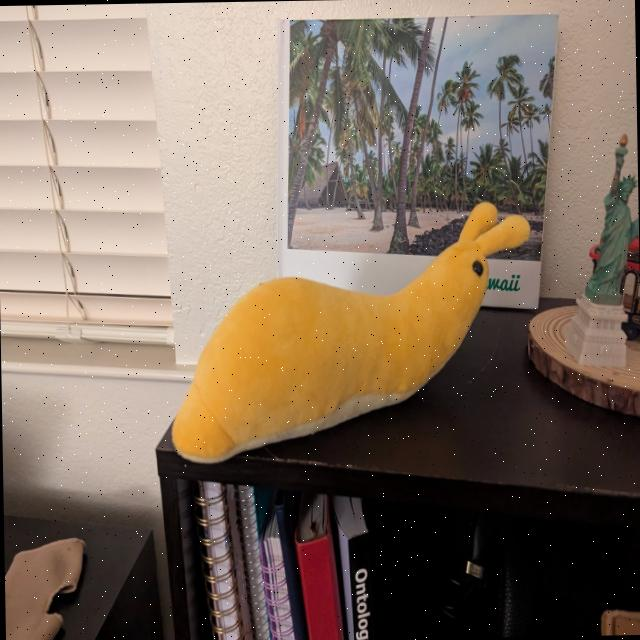banana-slug-toy: (150, 190, 542, 473)
